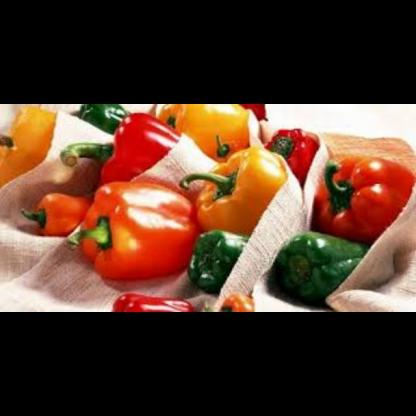bell pepper: (73, 179, 203, 286), (188, 142, 291, 233), (314, 150, 415, 240), (79, 110, 184, 187), (272, 225, 371, 303), (159, 104, 258, 166), (185, 224, 258, 294), (0, 103, 57, 186), (16, 184, 92, 244), (264, 123, 326, 177), (104, 286, 196, 312), (74, 104, 133, 134), (213, 290, 254, 312)
